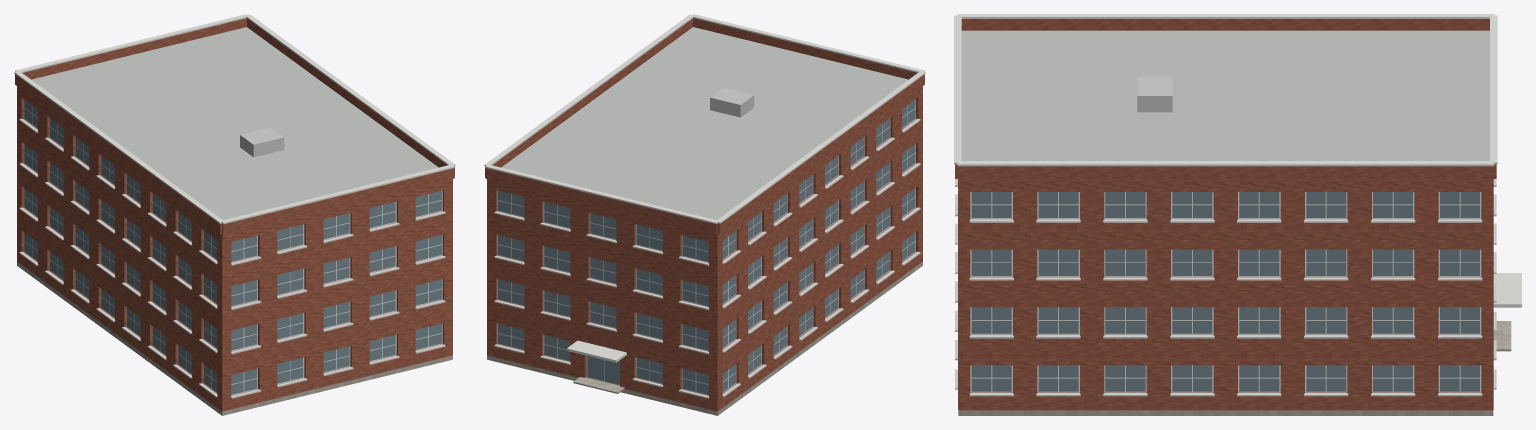
The picture shows the model from 3 angles, left to right: view 1: azimuth 30°, elevation 25°; view 2: azimuth 150°, elevation 25°; view 3: azimuth 270°, elevation 25°; orthographic projection. The views are drawn at different scales.
Visible parts, largest first — view 1: aud-east__brick, aud-east__greyroof, aud-east__glass, aud-east__cap, aud-east__whiteframe, aud-east__sill, aud-east__stone, aud-east__plant; view 2: aud-east__brick, aud-east__greyroof, aud-east__glass, aud-east__cap, aud-east__whiteframe, aud-east__sill, aud-east__stone, aud-east__plant, aud-east__threshold-field; view 3: aud-east__brick, aud-east__greyroof, aud-east__glass, aud-east__cap, aud-east__whiteframe, aud-east__sill, aud-east__stone, aud-east__plant, aud-east__threshold-field.
Boxes of the visible parts, bbox=[...] form: aud-east__brick: bbox=[15, 18, 454, 411]; aud-east__greyroof: bbox=[31, 27, 438, 219]; aud-east__glass: bbox=[24, 99, 441, 394]; aud-east__cap: bbox=[14, 14, 455, 224]; aud-east__whiteframe: bbox=[24, 99, 442, 395]; aud-east__sill: bbox=[19, 119, 445, 398]; aud-east__stone: bbox=[17, 261, 452, 415]; aud-east__plant: bbox=[240, 127, 284, 157]; aud-east__brick: bbox=[485, 18, 924, 411]; aud-east__greyroof: bbox=[501, 27, 908, 219]; aud-east__glass: bbox=[498, 99, 915, 394]; aud-east__cap: bbox=[484, 14, 925, 362]; aud-east__whiteframe: bbox=[497, 99, 915, 395]; aud-east__sill: bbox=[494, 119, 920, 398]; aud-east__stone: bbox=[487, 261, 922, 415]; aud-east__plant: bbox=[710, 87, 754, 117]; aud-east__threshold-field: bbox=[573, 377, 624, 393]; aud-east__brick: bbox=[955, 19, 1496, 410]; aud-east__greyroof: bbox=[961, 30, 1489, 160]; aud-east__glass: bbox=[971, 192, 1479, 391]; aud-east__cap: bbox=[954, 14, 1521, 307]; aud-east__whiteframe: bbox=[970, 192, 1481, 392]; aud-east__sill: bbox=[955, 179, 1496, 396]; aud-east__stone: bbox=[958, 410, 1493, 415]; aud-east__plant: bbox=[1137, 76, 1172, 112]; aud-east__threshold-field: bbox=[1493, 321, 1511, 351].
Size of the model in its own units: 20.06 by 15.96 by 32.03.
10 materials, 2 textured.
